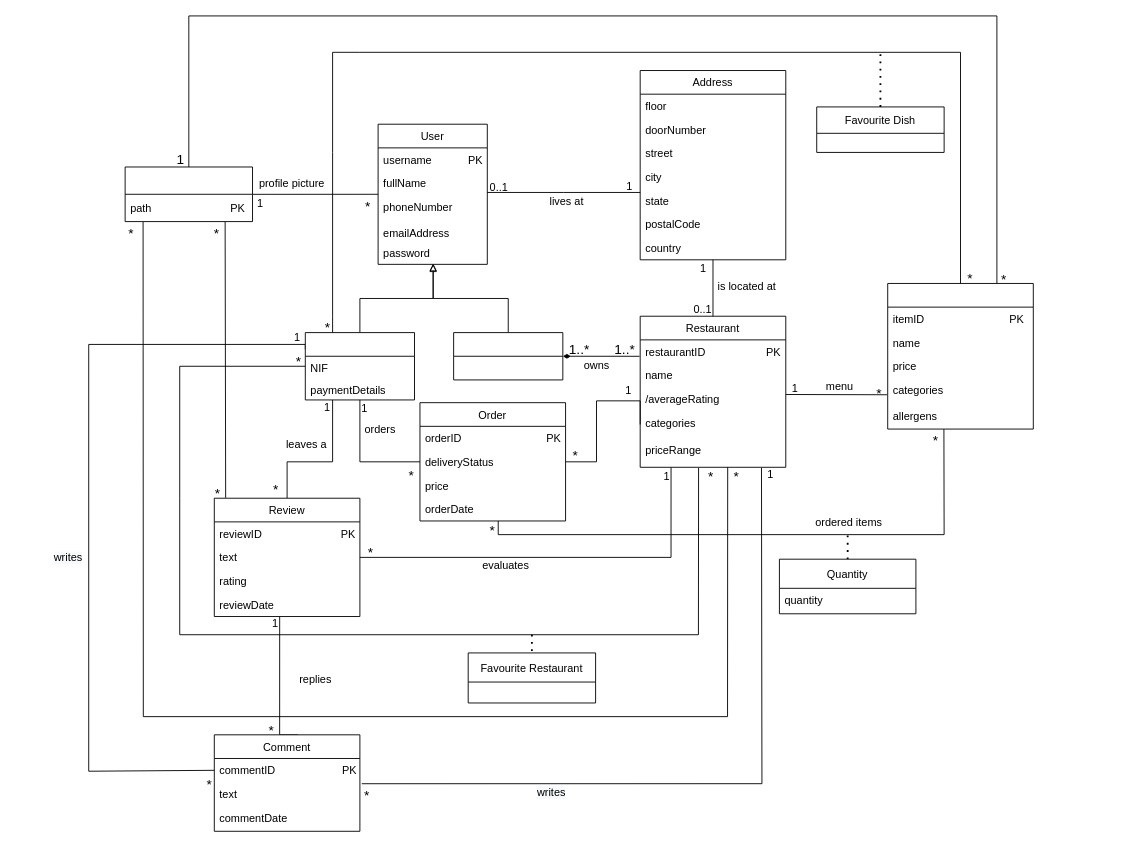
Some shapes in this 1122 by 848 pixel diagram are drawn without their labels. Here are the shapes that lost their labels. From the top down, the box of each, then its label:
(124, 166, 253, 222): Image
(304, 332, 415, 400): Customer
(453, 332, 563, 380): Restaurant Owner
(887, 283, 1033, 429): Menu Item
